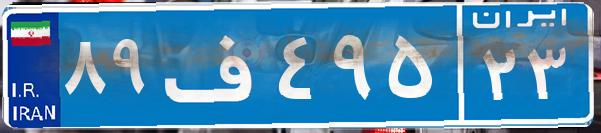2: (475, 38, 525, 113)
3: (525, 38, 570, 115)
4: (273, 28, 330, 110)
5: (385, 28, 445, 110)
8: (57, 26, 110, 107)
9: (330, 28, 385, 110), (110, 28, 158, 105)
ف: (158, 15, 273, 115)
